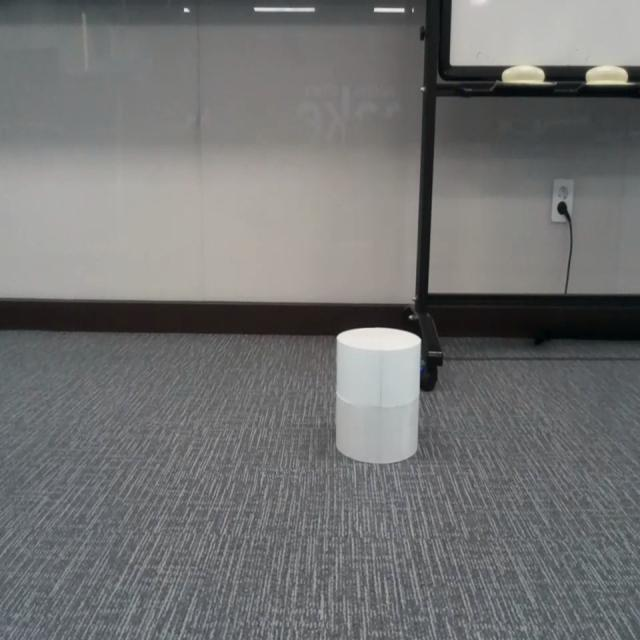cylinder: (336, 327, 422, 464), (294, 579, 351, 640)
